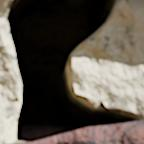brick: (31, 121, 143, 143)
crack: (0, 0, 142, 143)
